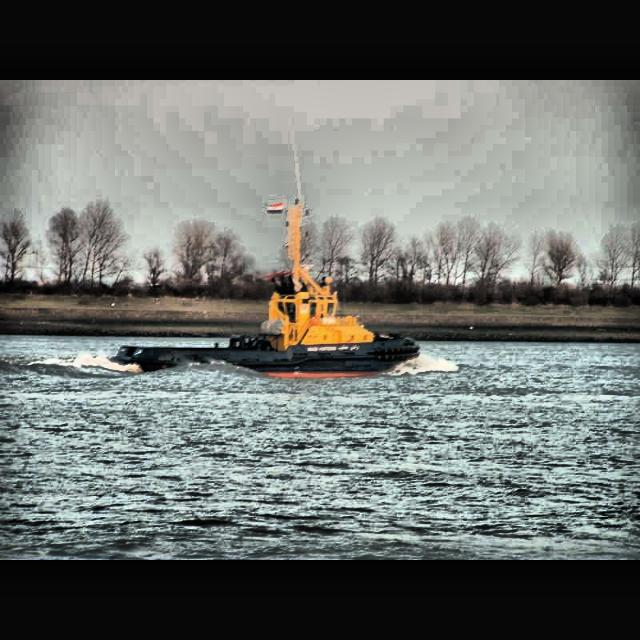tug: (115, 250, 423, 382)
